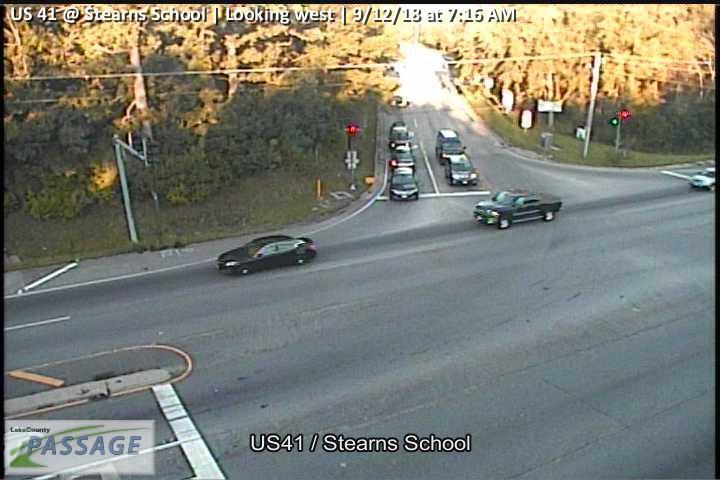SUV: (444, 153, 479, 186), (687, 167, 715, 191), (389, 124, 412, 153), (437, 126, 460, 141)
Sedan: (213, 233, 317, 275), (472, 186, 563, 229), (388, 173, 420, 202), (440, 142, 466, 159), (393, 152, 414, 169)
